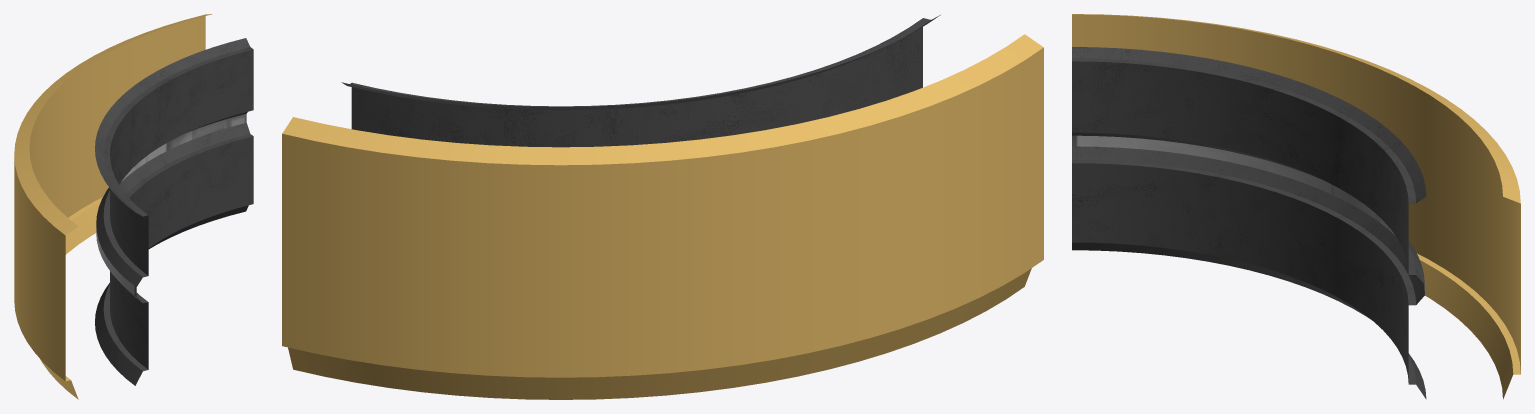
Rendered from NB_hole_depper.fbx.
3 renders of one model, left to right at view 1: azimuth 30°, elevation 25°; view 2: azimuth 150°, elevation 25°; view 3: azimuth 270°, elevation 25°, orthographic. The views are drawn at different scales.
Parts seen in each view (by area): view 1: NB_hole_depper; view 2: NB_hole_depper; view 3: NB_hole_depper.
Part boxes in pixels (x1,y1,x2,y2): NB_hole_depper: [14, 14, 253, 399]; NB_hole_depper: [282, 15, 1043, 399]; NB_hole_depper: [1072, 14, 1520, 399].
Bounding box in the file's own units: 400 × 200 × 400.
